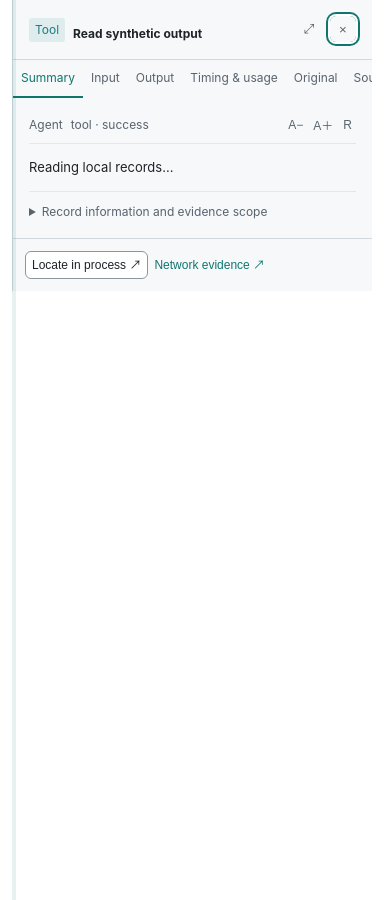
does not invent an input relationship when only the selected result record is available
The image size is (389, 900).
Click the tab "Input" at (105,79), box left=83, top=60, right=128, bottom=98
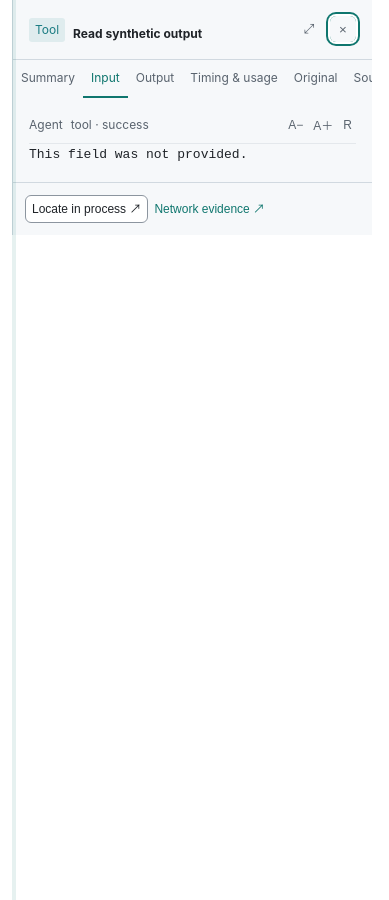
Now the text "This field was not provided" is shown, box left=29, top=147, right=247, bottom=162
